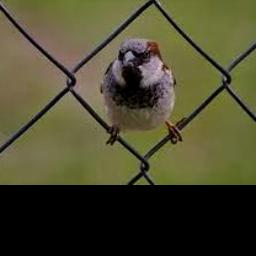Sparrow: (101, 38, 177, 134)
